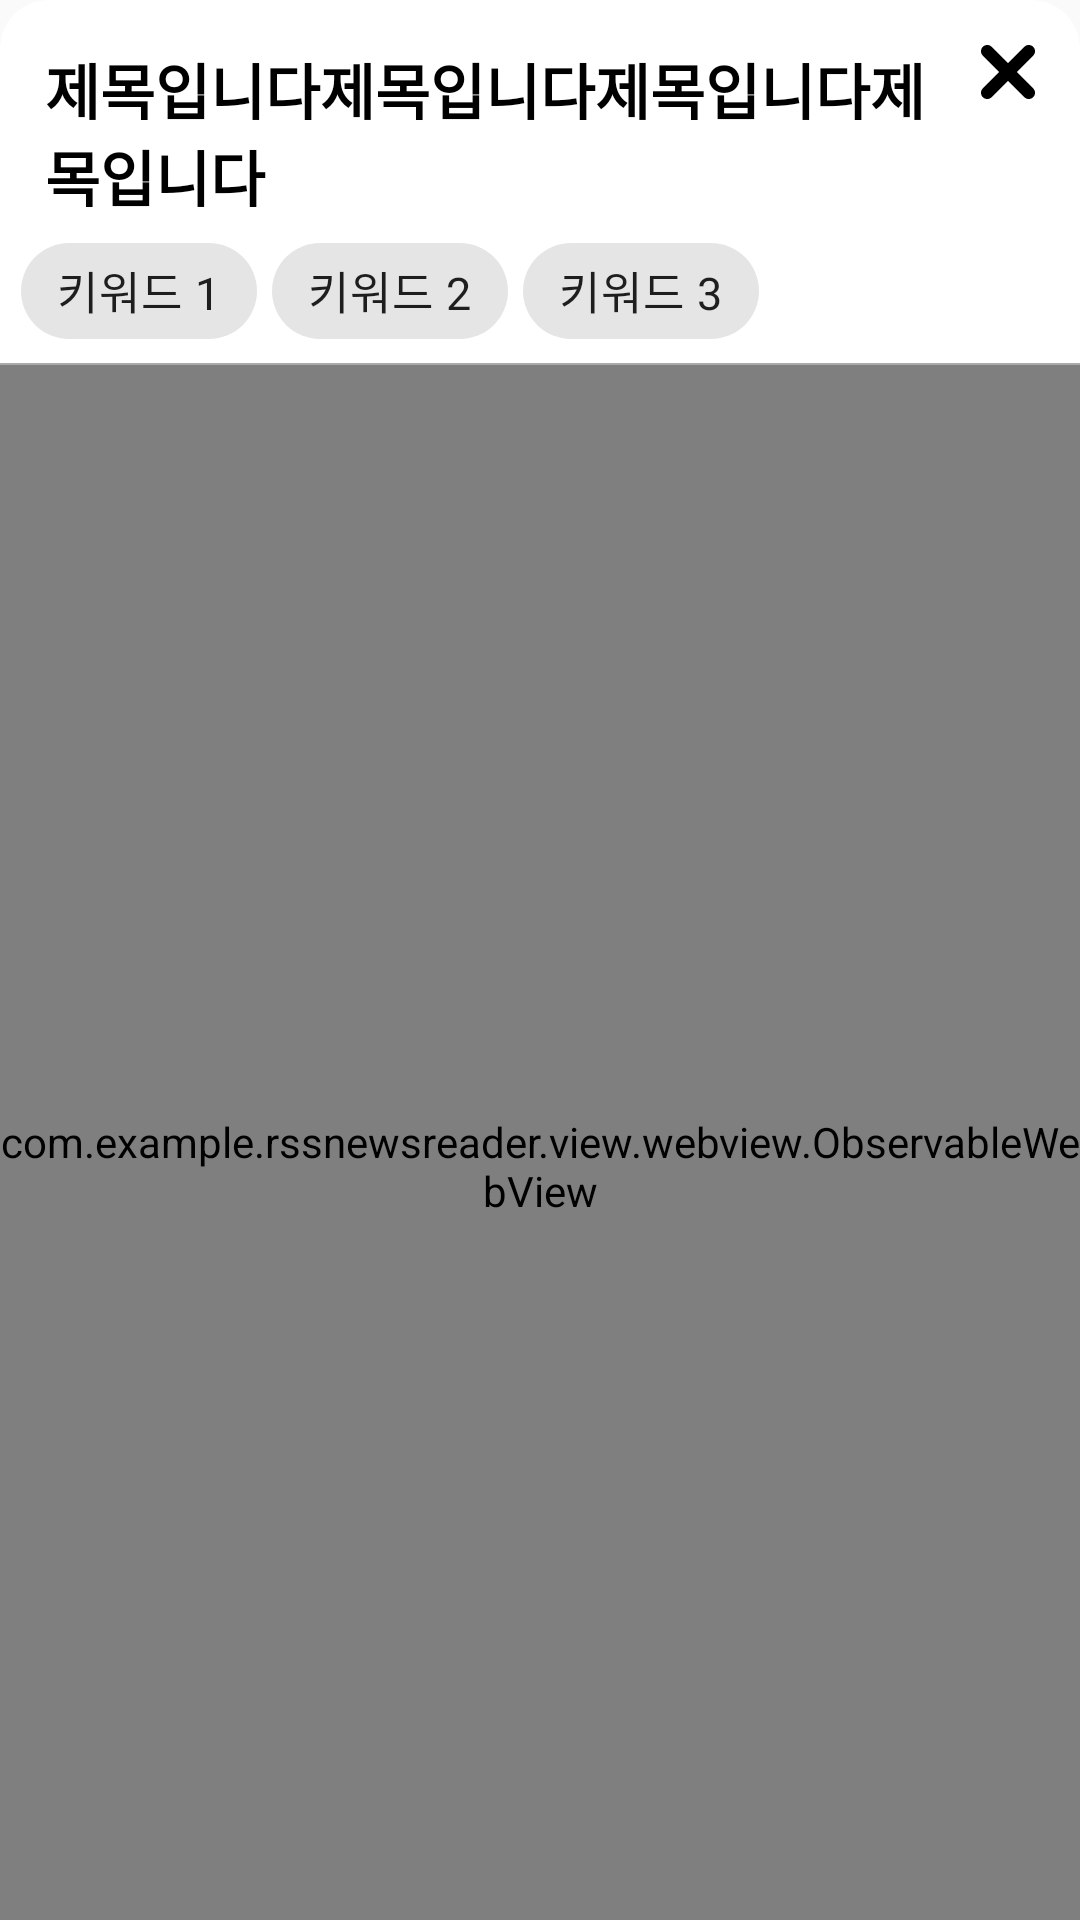

Named icons in this screenshot (1080px x 1920px) and their centers, point (x, y):
close: point (1008, 72)
